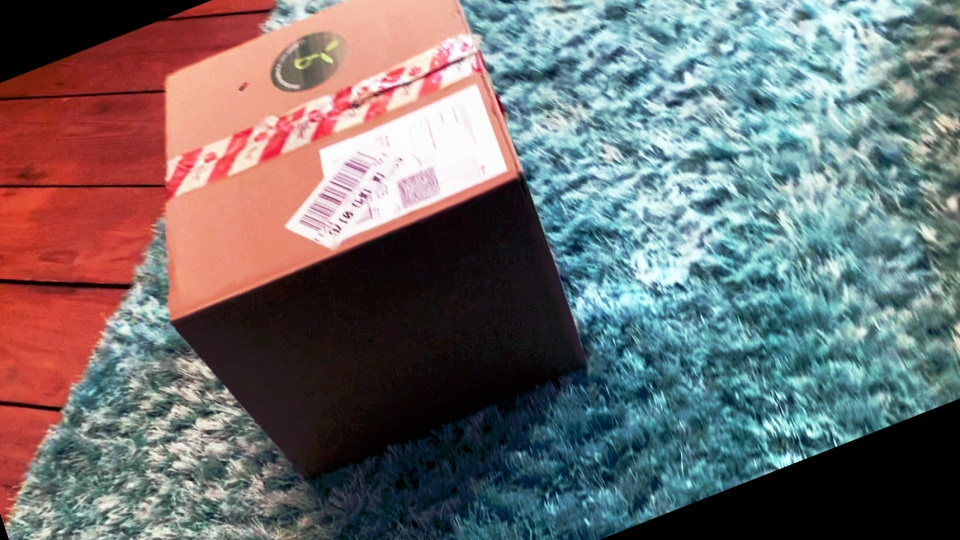good-parcel: (145, 1, 599, 485)
